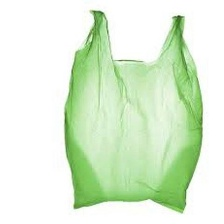plastic_bag: (61, 7, 207, 215)
